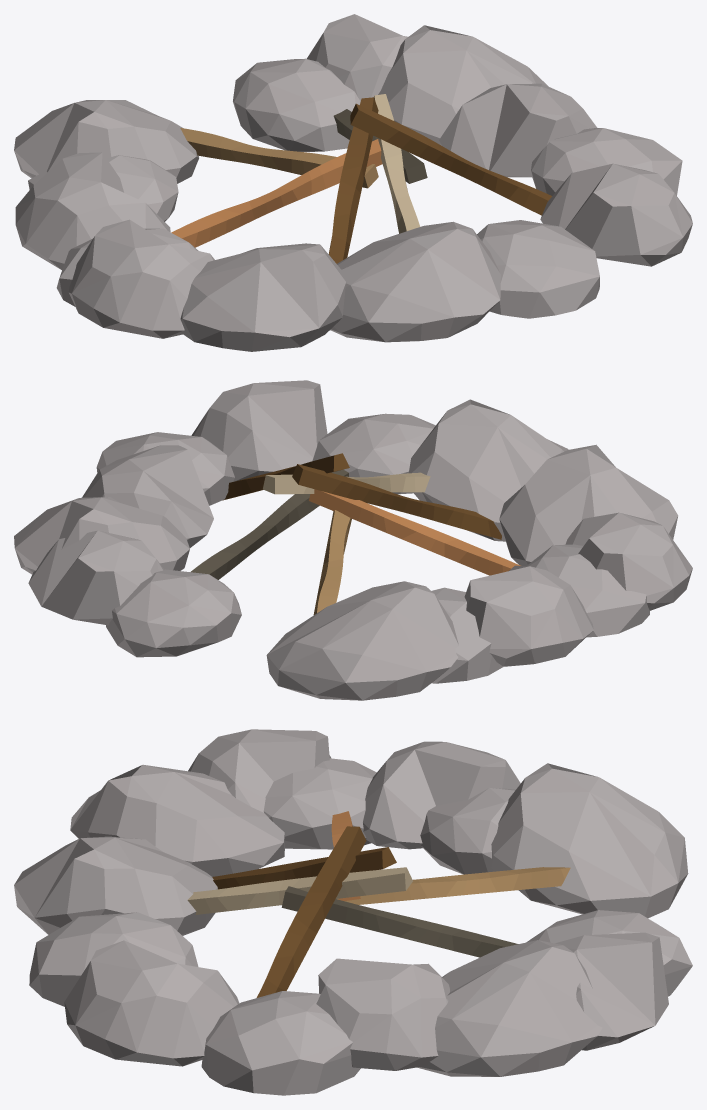
Rendered from Fire_Pit_Env.glb.
3 renders of one model, top to bottom at view 1: azimuth 30°, elevation 25°; view 2: azimuth 150°, elevation 25°; view 3: azimuth 270°, elevation 25°, orthographic. The views are drawn at different scales.
Visible parts, largest first — view 1: Fire_Pit_Env; view 2: Fire_Pit_Env; view 3: Fire_Pit_Env.
Boxes of the visible parts, x1,y1,x2,y2 form: Fire_Pit_Env: [14, 14, 692, 351]; Fire_Pit_Env: [14, 380, 692, 700]; Fire_Pit_Env: [14, 729, 692, 1095].
Bounding box in the file's own units: 4.05 × 0.8696 × 3.67.
Materials: 1 (1 with a texture image).
